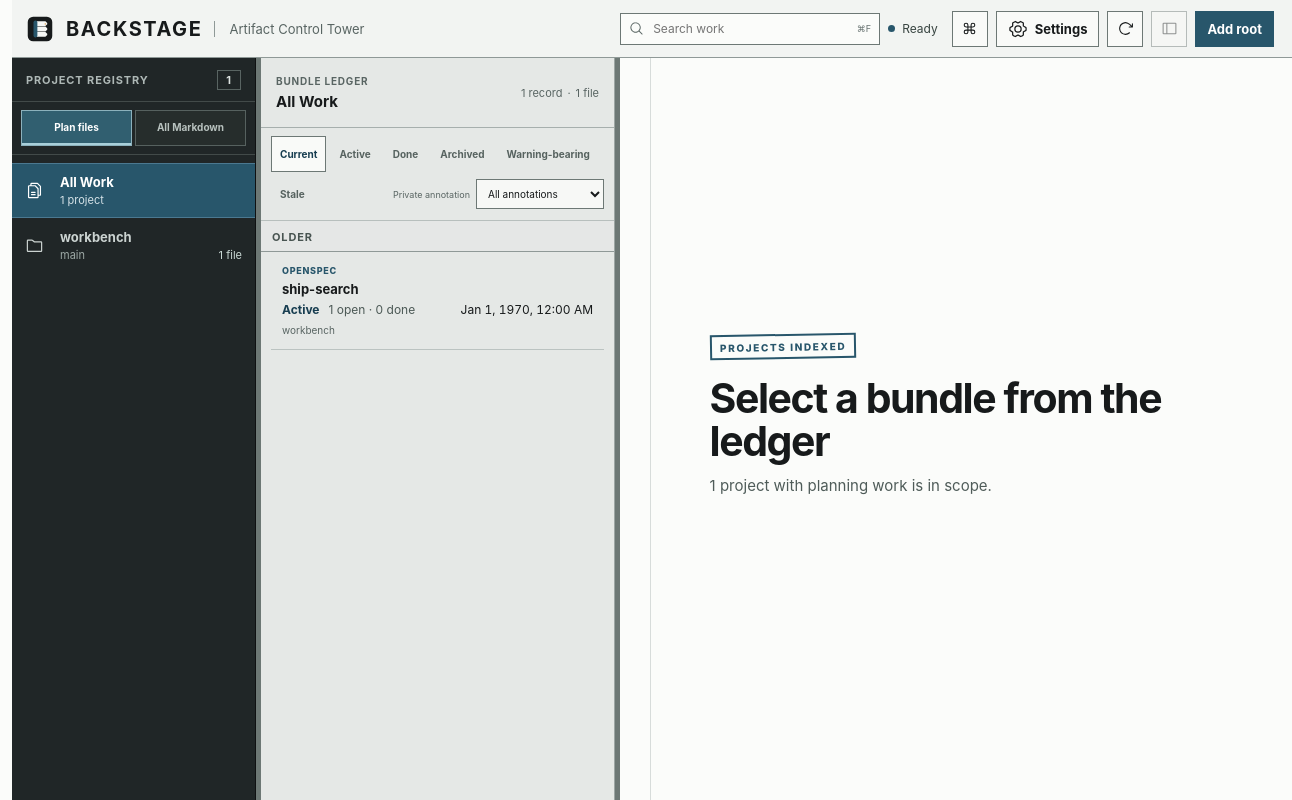
Scenario: App root discovery › opens ordinary Markdown in the local generic reader without planning or Pi controls
Click the button "All Markdown" at (190,128), box [135,110,246,146]
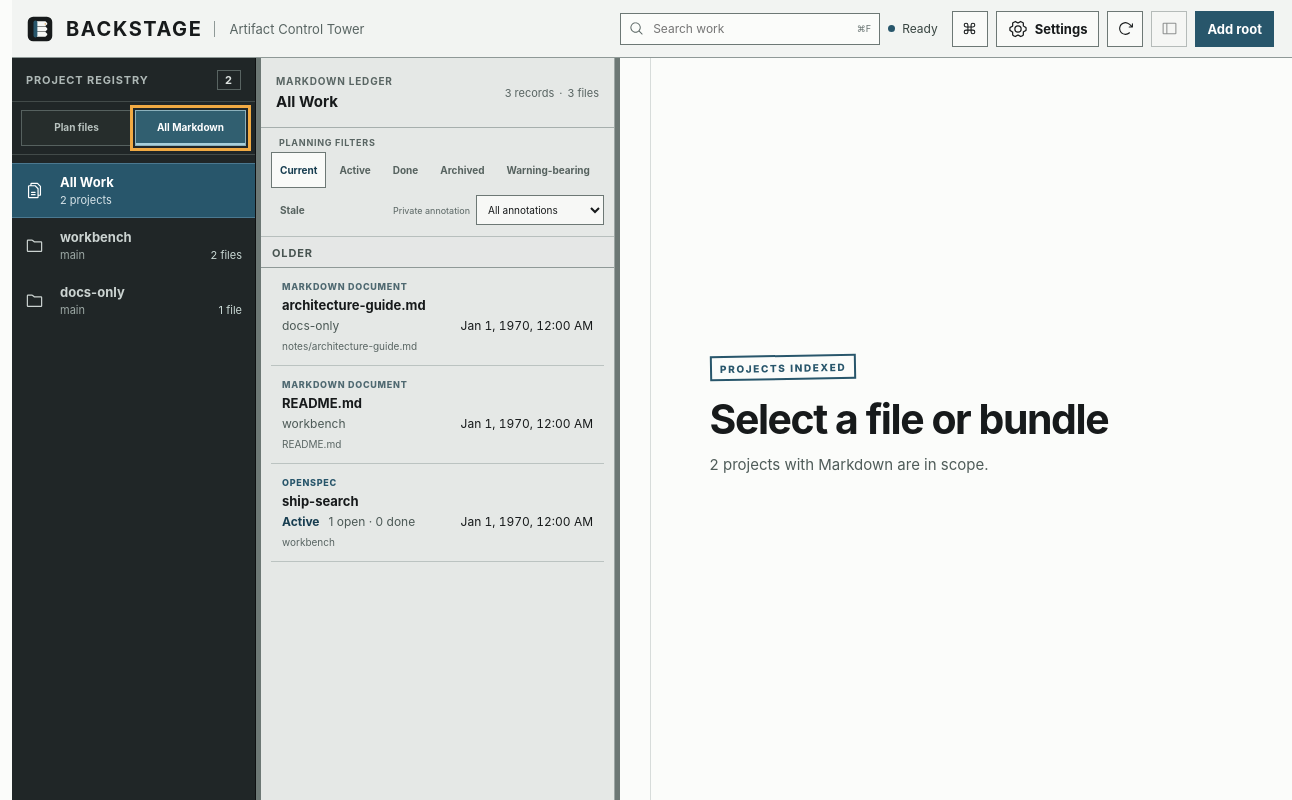
Click the button "README.md" at (345,384), box [271,366,604,464]
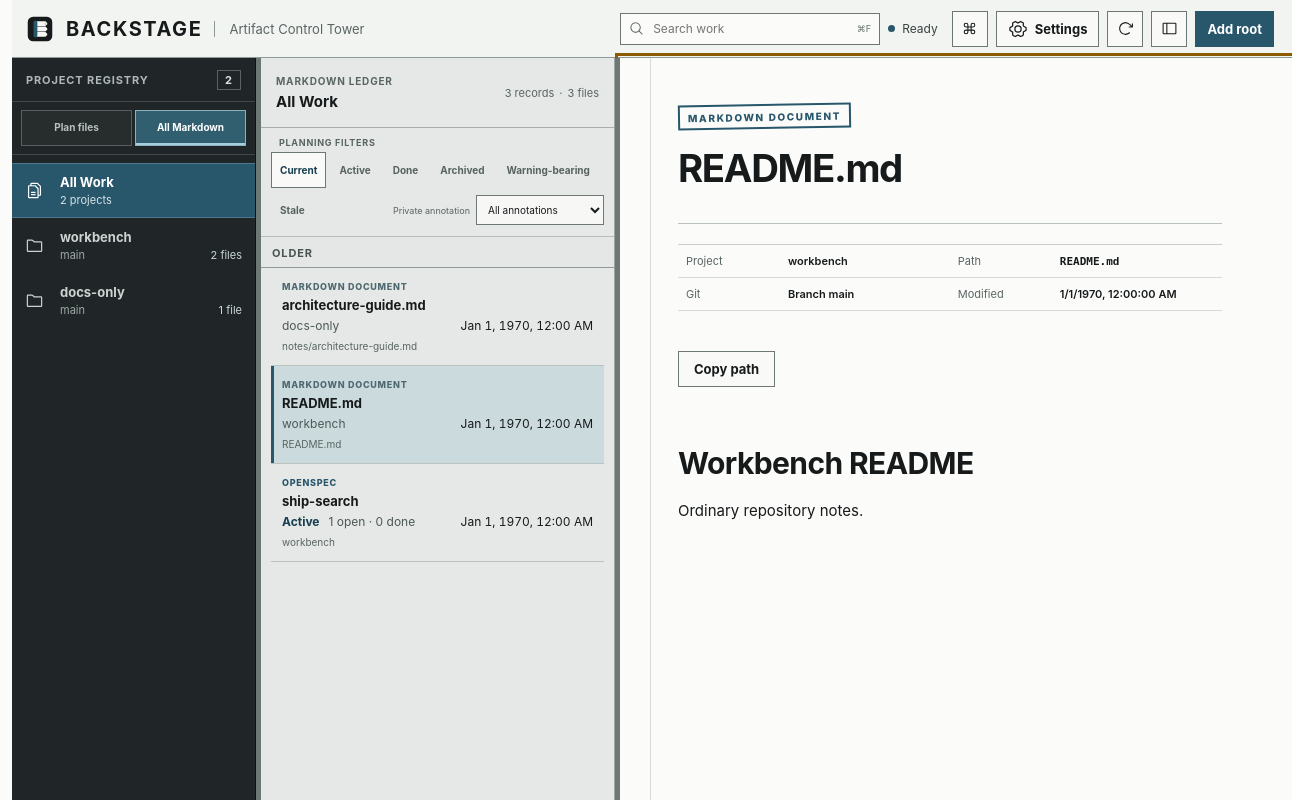
Expected: the heading "README.md" is shown, [678,145,902,191]
Expected: the heading "Workbench README" is shown, [678,445,974,481]
Expected: the element named "Rendered Markdown document" is shown, [678,445,974,520]
